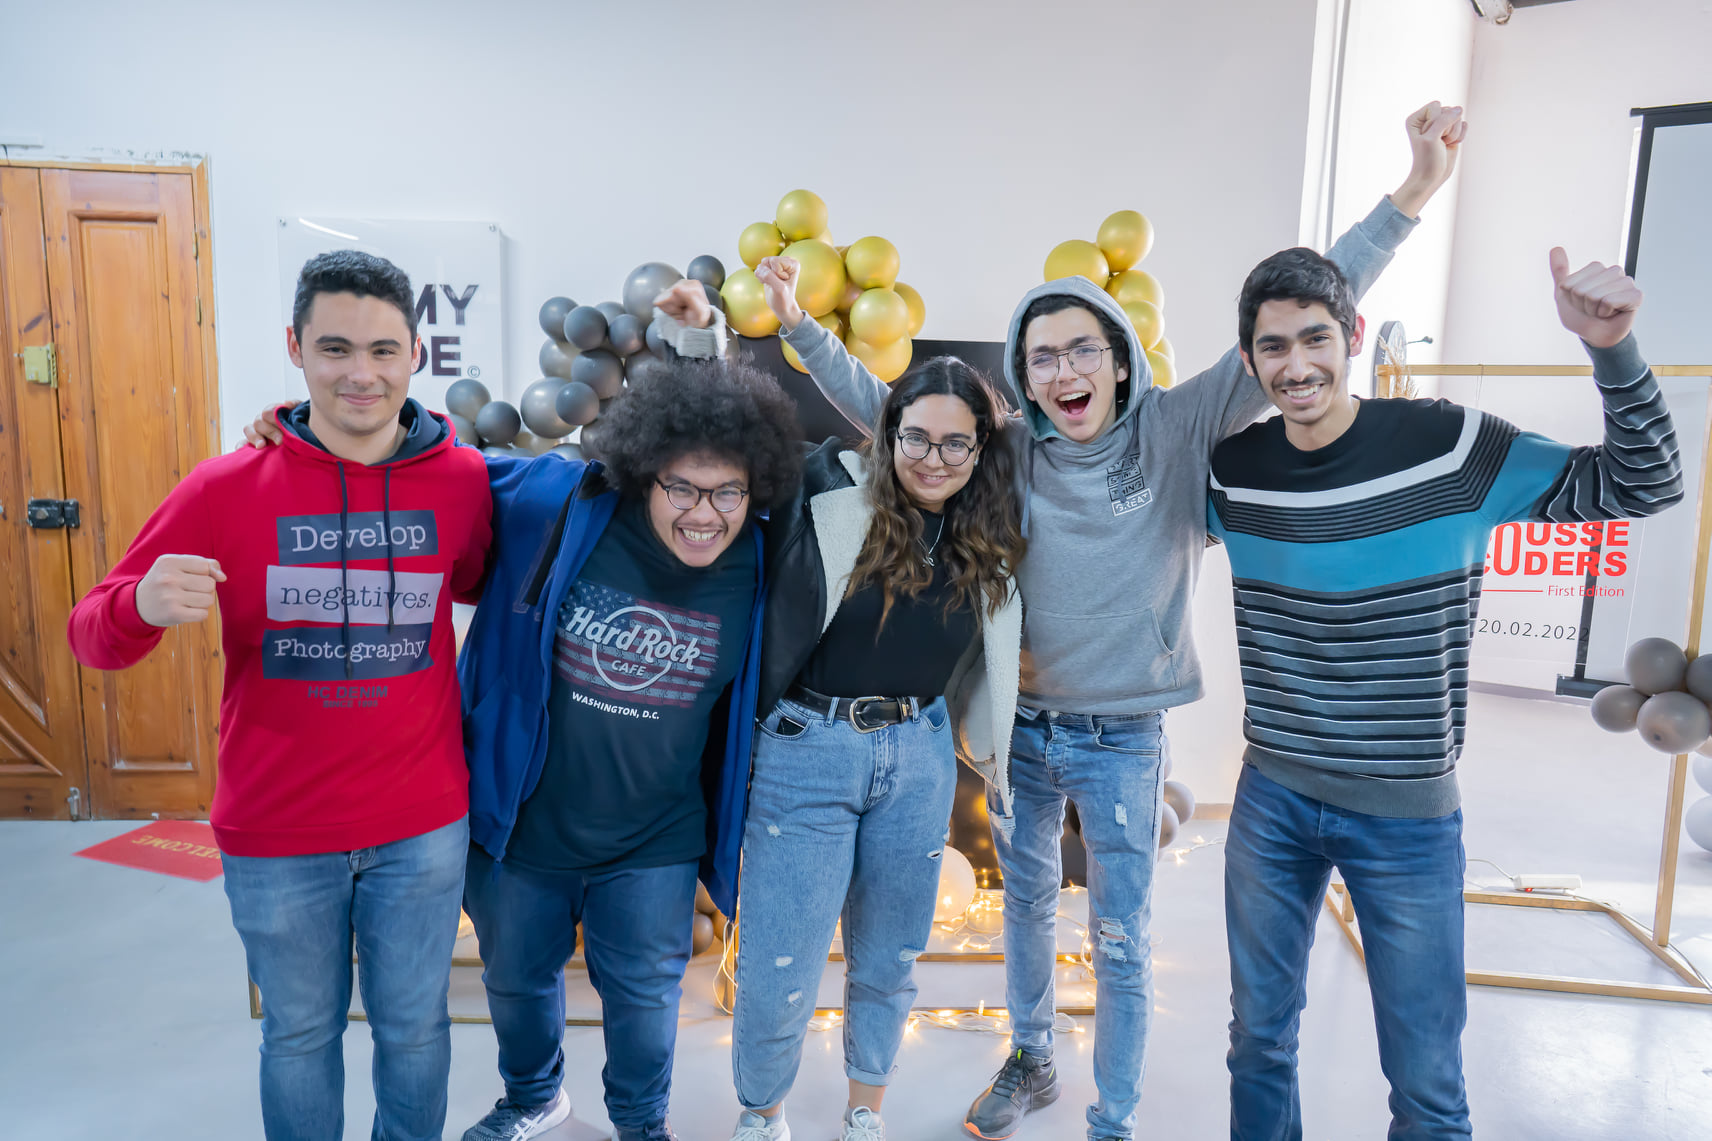without_mask: (1254, 326, 1350, 418), (658, 466, 743, 561), (313, 330, 402, 416), (1021, 342, 1109, 425), (897, 419, 972, 498)
